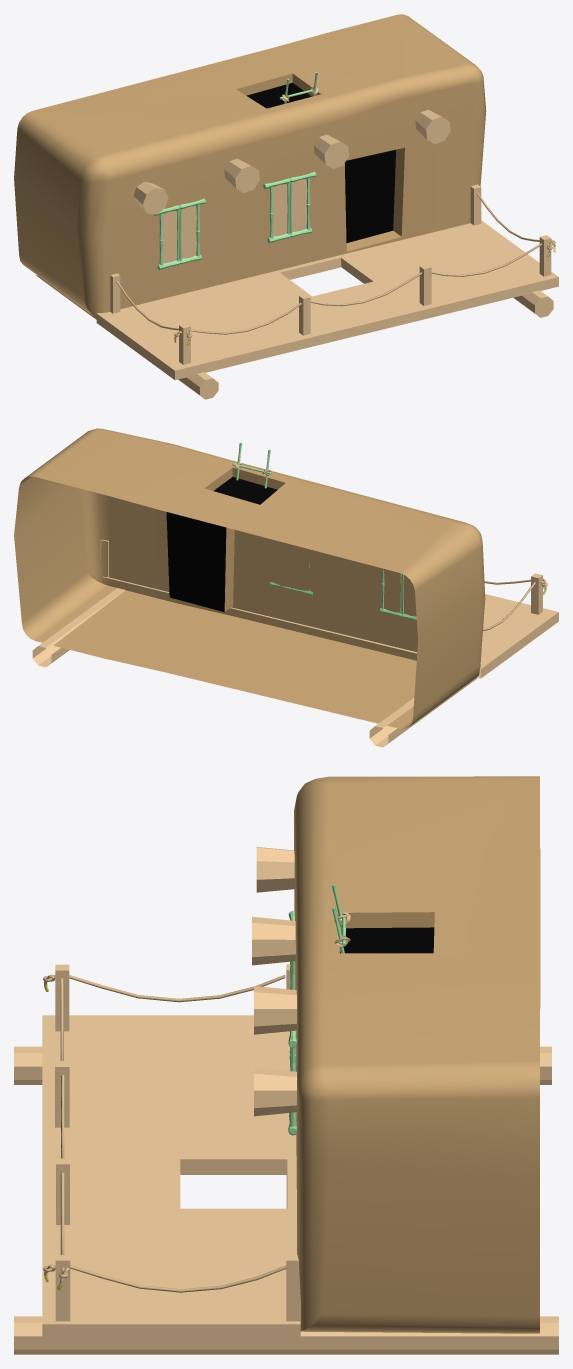
File: pueblo_house_03.fbx
The picture shows the model from 3 angles, top to bottom: view 1: azimuth 30°, elevation 25°; view 2: azimuth 150°, elevation 25°; view 3: azimuth 270°, elevation 25°; orthographic projection. The views are drawn at different scales.
Visible parts, largest first — view 1: pueblo_house_03, patio_with_hole_01, rope_fenceposts_02, window_05_02, window_05_01, rope_fence_01, pCylinder48, pCylinder46, pCylinder50, pCylinder49, support_beam_01, support_beam_02; view 2: pueblo_house_03, patio_with_hole_01, support_beam_02, support_beam_01, rope_fenceposts_02, window_05_01; view 3: pueblo_house_03, patio_with_hole_01, support_beam_02, rope_fenceposts_02, rope_fence_01, pCylinder48, pCylinder50, pCylinder46, pCylinder49, support_beam_01.
Part boxes in pixels (x1,y1,x2,y2): pueblo_house_03: (14,14,486,317); patio_with_hole_01: (96,220,558,379); rope_fenceposts_02: (110,184,551,364); window_05_02: (263,171,316,243); window_05_01: (153,198,205,269); rope_fence_01: (116,192,555,345); pCylinder48: (224,158,259,192); pCylinder46: (313,134,348,168); pCylinder50: (415,109,450,144); pCylinder49: (133,181,168,214); support_beam_01: (36,275,218,399); support_beam_02: (513,290,553,317); pueblo_house_03: (14,428,485,728); patio_with_hole_01: (102,576,558,678); support_beam_02: (32,588,124,667); support_beam_01: (369,677,477,747); rope_fenceposts_02: (100,539,542,614); window_05_01: (380,568,416,620); pueblo_house_03: (294,776,540,1333); patio_with_hole_01: (42,1015,300,1339); support_beam_02: (14,1316,558,1354); rope_fenceposts_02: (55,964,300,1321); rope_fence_01: (43,974,286,1292); pCylinder48: (252,916,295,965); pCylinder50: (254,1067,296,1116); pCylinder46: (254,986,296,1034); pCylinder49: (256,847,294,892); support_beam_01: (14,1046,551,1084).
Bounding box in the file's own units: 1224 × 594 × 865.
